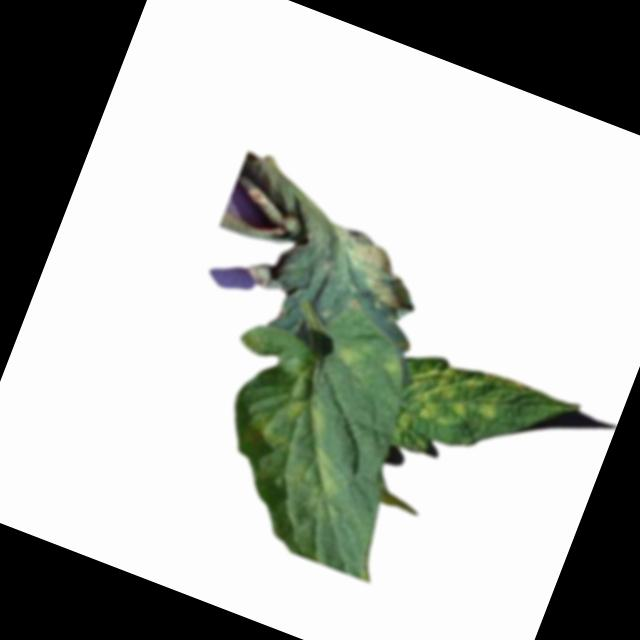Leaf_Mold: (239, 384, 365, 511), (392, 346, 510, 460), (312, 222, 428, 320), (326, 338, 370, 379)
